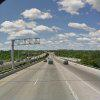Car: (47, 54, 56, 66)
